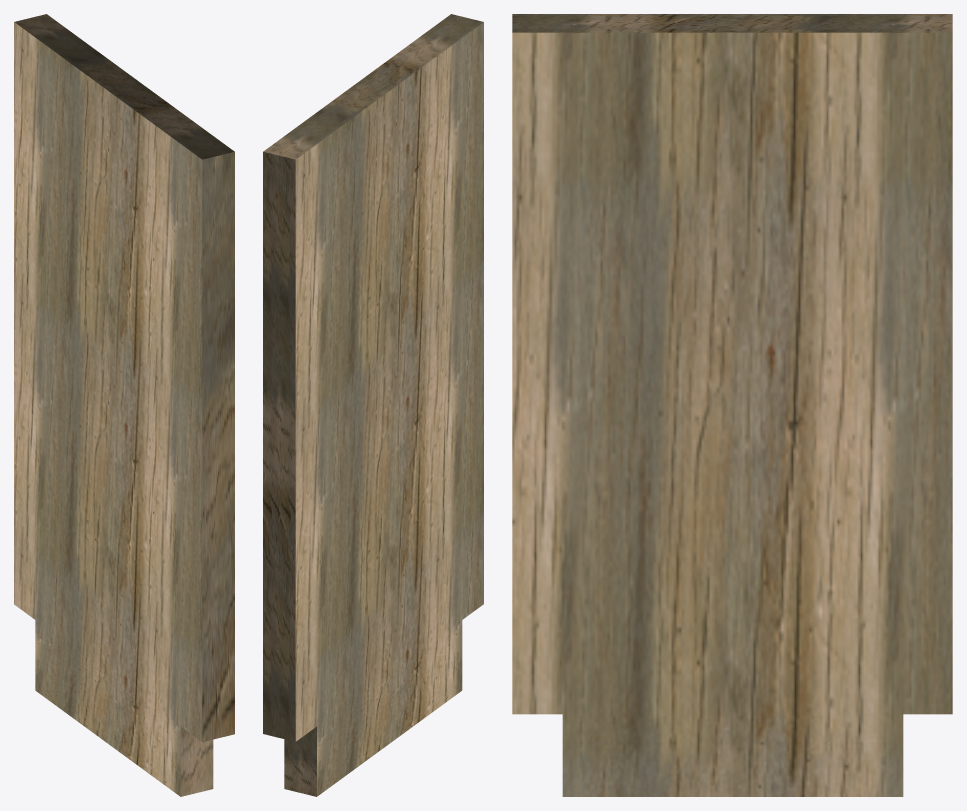
File: P_Modul_25_Bridge.obj
3 renders of one model, left to right at view 1: azimuth 30°, elevation 25°; view 2: azimuth 150°, elevation 25°; view 3: azimuth 270°, elevation 25°, orthographic. The views are drawn at different scales.
Parts seen in each view (by area): view 1: P_Modul_25_Bridge; view 2: P_Modul_25_Bridge; view 3: P_Modul_25_Bridge.
Boxes of the visible parts, <box> form: P_Modul_25_Bridge: <box>14,14,234,796</box>; P_Modul_25_Bridge: <box>263,14,483,796</box>; P_Modul_25_Bridge: <box>512,14,952,796</box>.
Size of the model in its own units: 0.4999 by 9.57 by 5.
